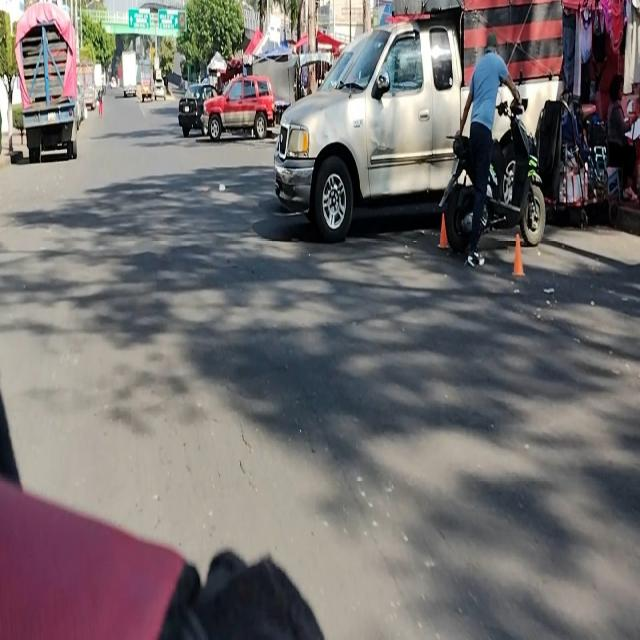adult: (458, 31, 522, 268)
